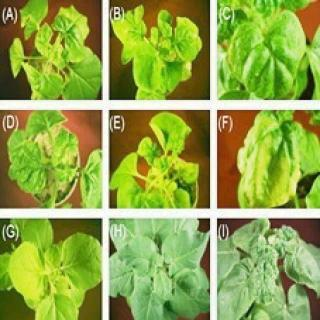curl: (124, 7, 202, 91), (13, 120, 86, 199), (240, 127, 316, 202), (117, 139, 203, 205), (22, 15, 92, 93), (232, 16, 308, 83), (24, 246, 94, 313), (236, 240, 306, 302), (127, 248, 200, 302)
